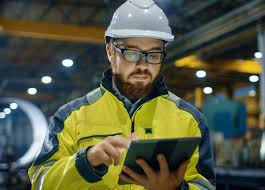Person_wearing_helmet: (98, 0, 172, 62)
